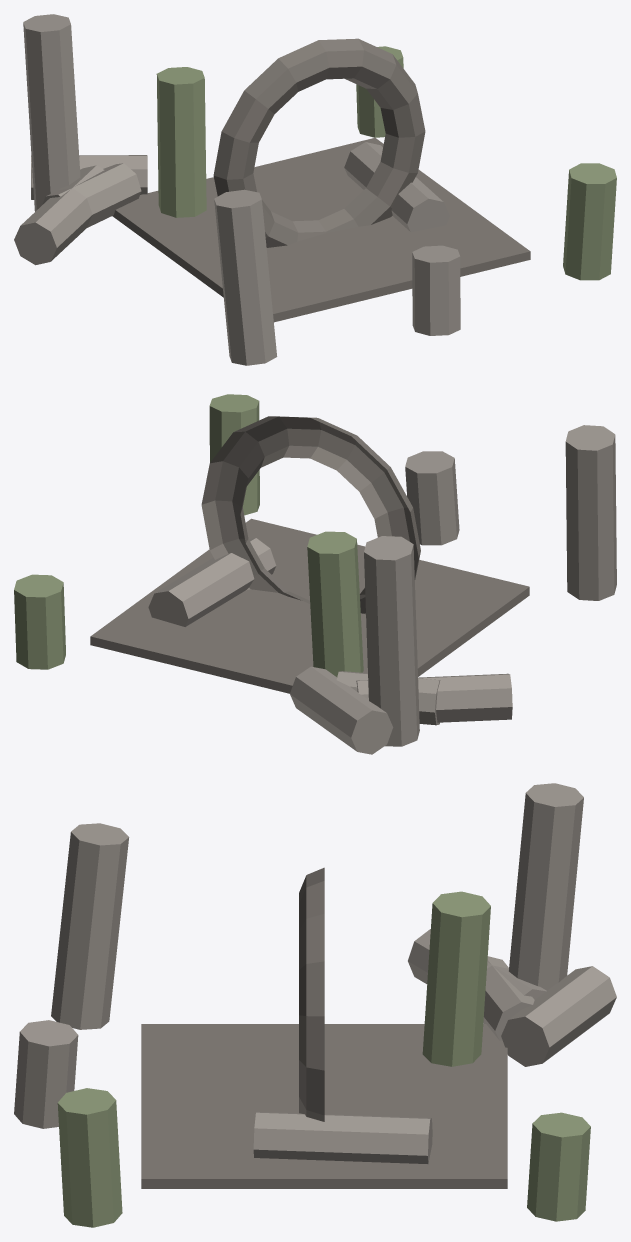
File: env_marutham_ruins.fbx
3 views of the same model, one above another, from view 1: azimuth 30°, elevation 25°; view 2: azimuth 150°, elevation 25°; view 3: azimuth 270°, elevation 25° (orthographic). The views are drawn at different scales.
Parts seen in each view (by area): view 1: env_kulaathanku_ruins; view 2: env_kulaathanku_ruins; view 3: env_kulaathanku_ruins.
Boxes of the visible parts, x1,y1,x2,y2 form: env_kulaathanku_ruins: [14, 14, 616, 365]; env_kulaathanku_ruins: [14, 394, 616, 754]; env_kulaathanku_ruins: [14, 783, 616, 1227].
Size of the model in its own units: 828 by 390 by 823.
